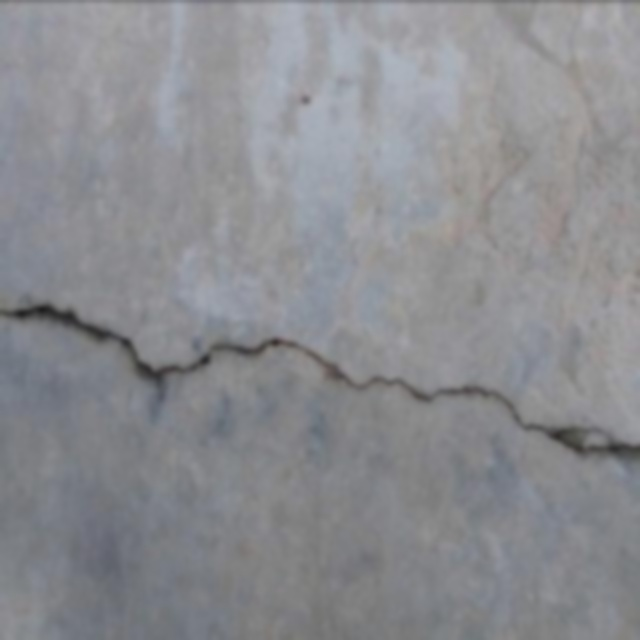SurfaceCrack: (0, 282, 638, 492)
